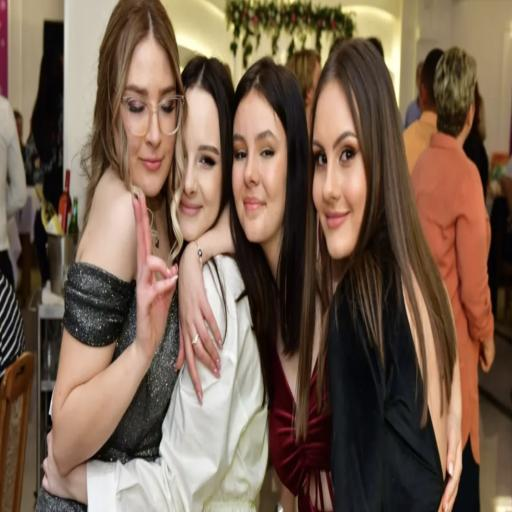marija: (180, 92, 221, 241)
